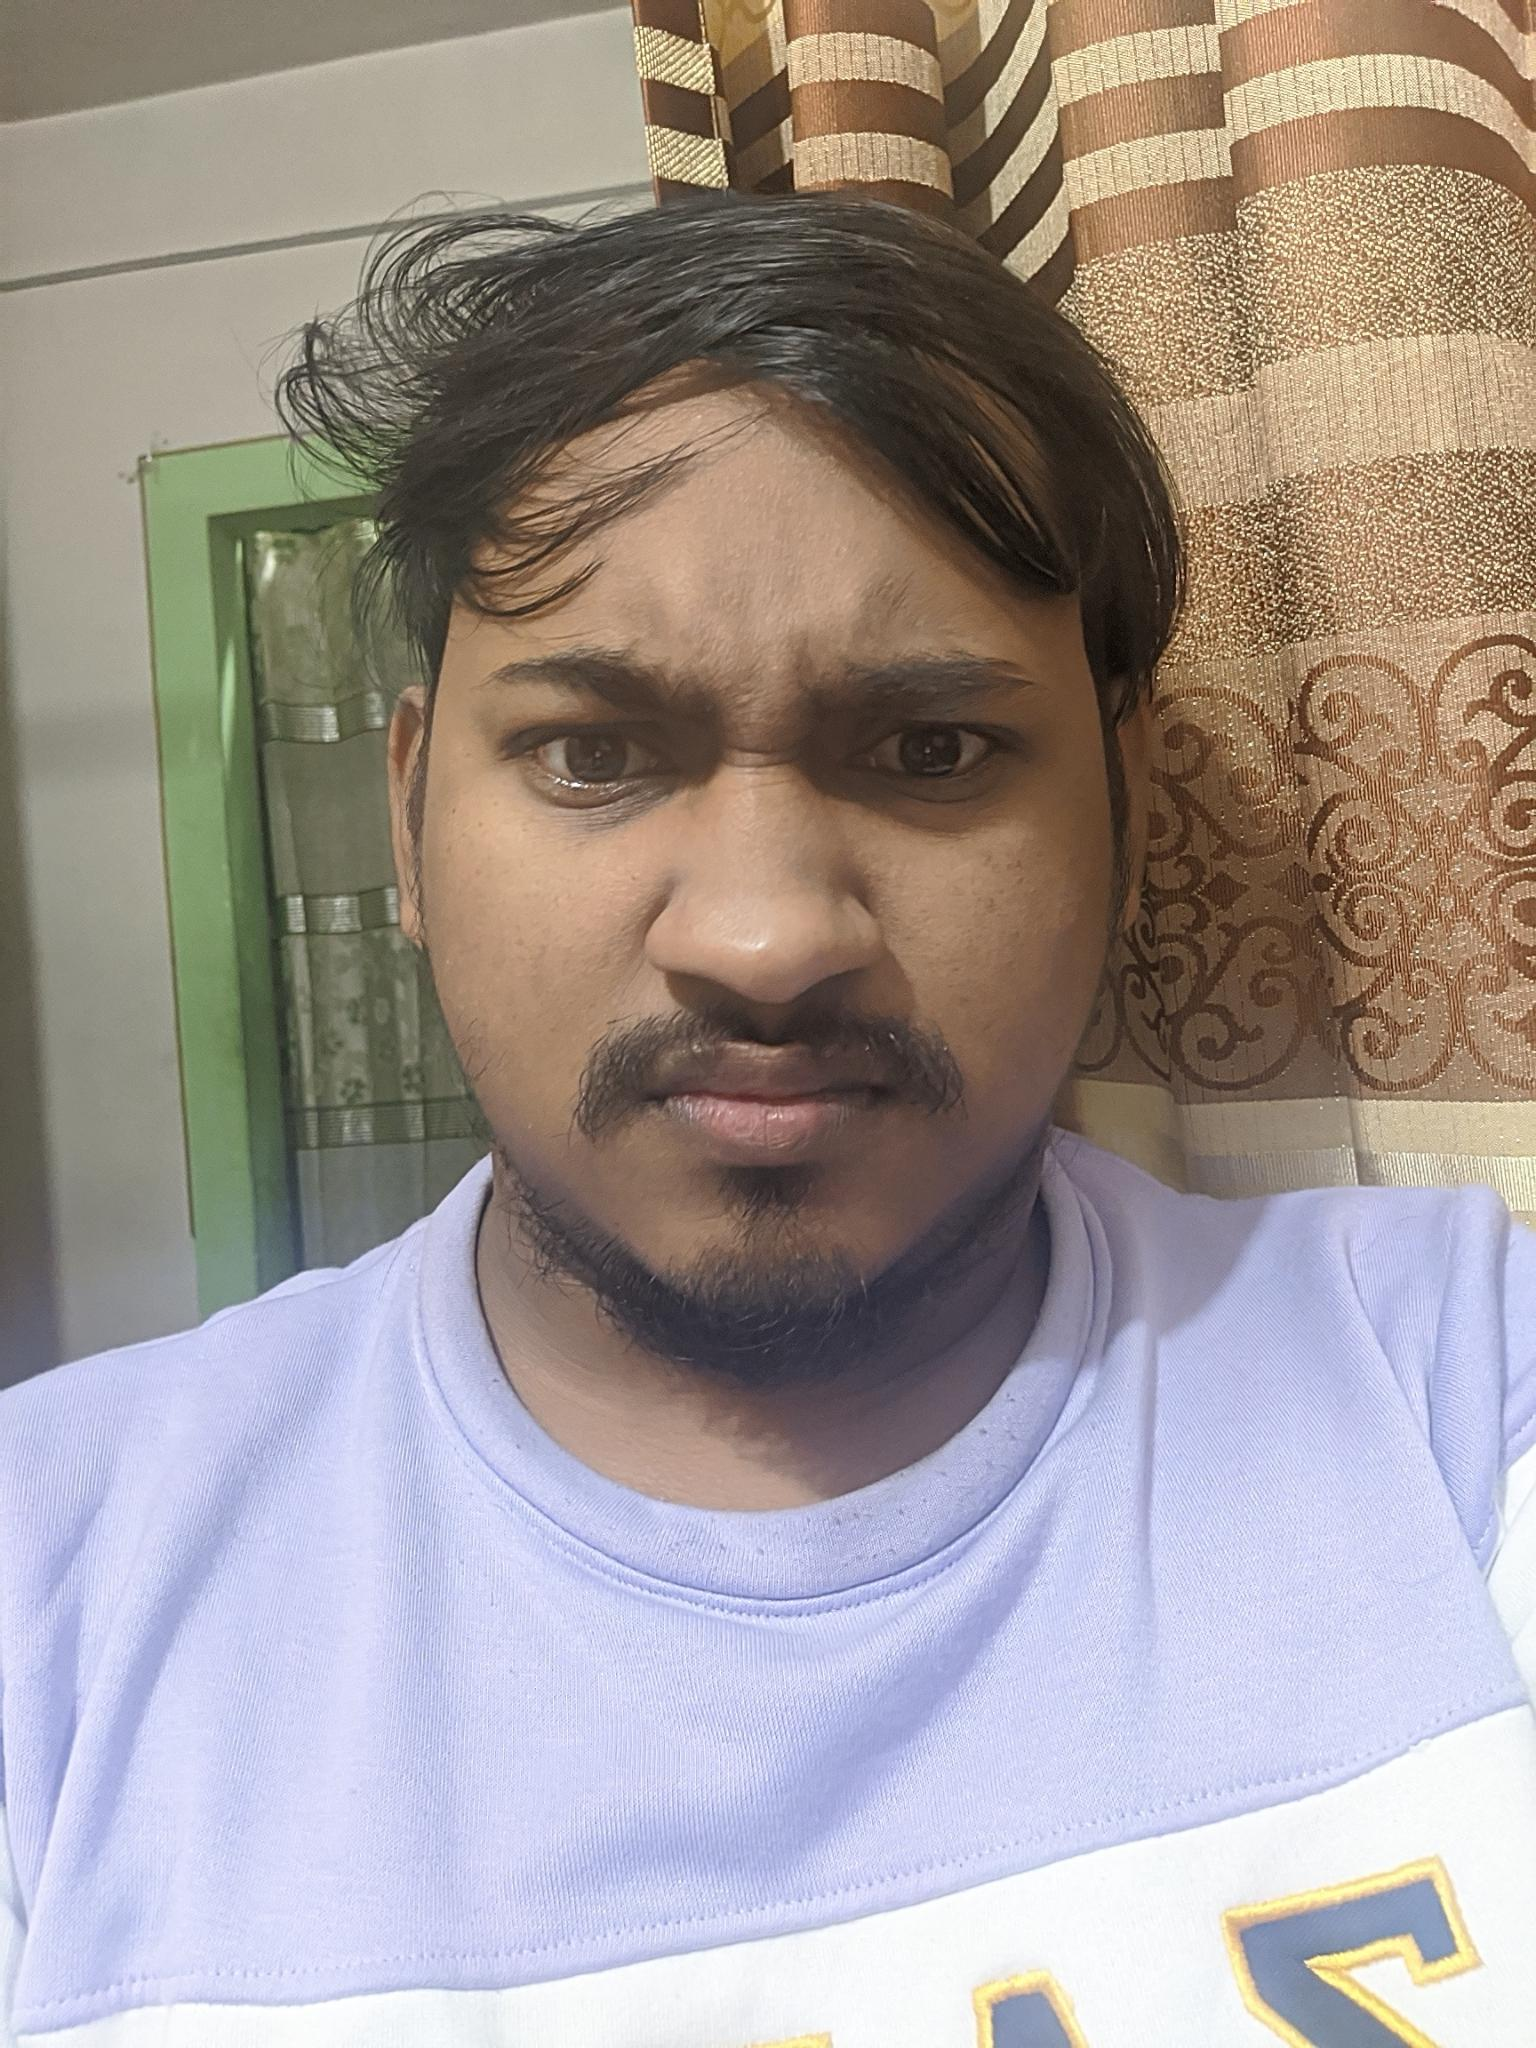Angry: (419, 540, 1126, 1326)
